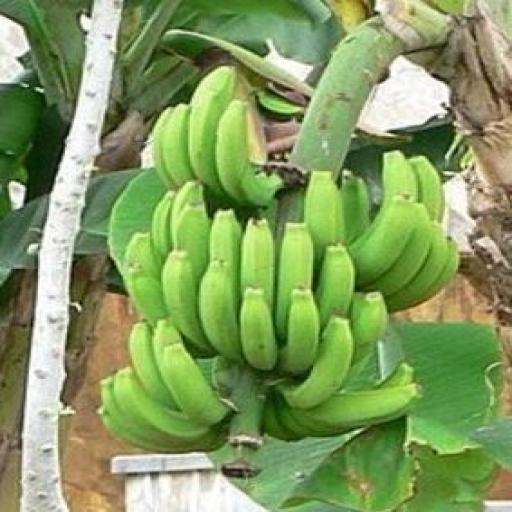banana-unripe: (104, 35, 469, 496)
